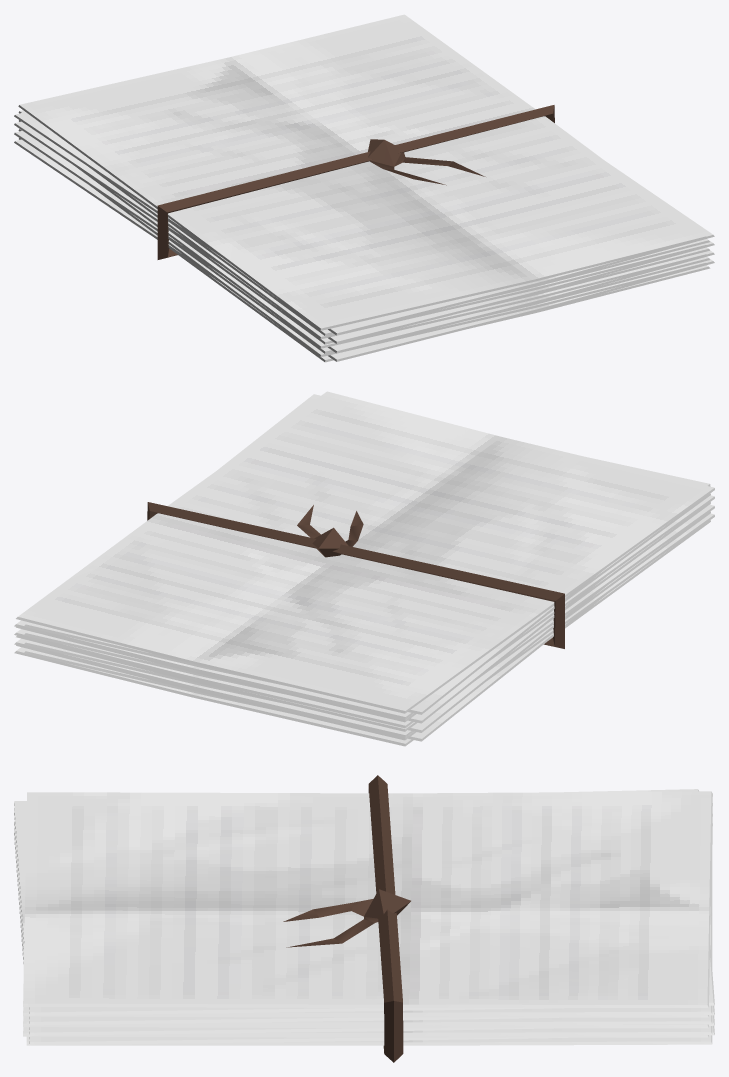
File: stack_of_paper.fbx
3 views of the same model, one above another, from view 1: azimuth 30°, elevation 25°; view 2: azimuth 150°, elevation 25°; view 3: azimuth 270°, elevation 25° (orthographic). The views are drawn at different scales.
Visible parts, largest first — view 1: SheetPaperStack; view 2: SheetPaperStack; view 3: SheetPaperStack.
Part boxes in pixels (x1,y1,x2,y2): SheetPaperStack: [14, 14, 714, 362]; SheetPaperStack: [14, 391, 714, 746]; SheetPaperStack: [14, 775, 714, 1062].
Size of the model in its own units: 0.1977 by 0.0312 by 0.2616.
